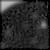node: (39, 19, 48, 29)
